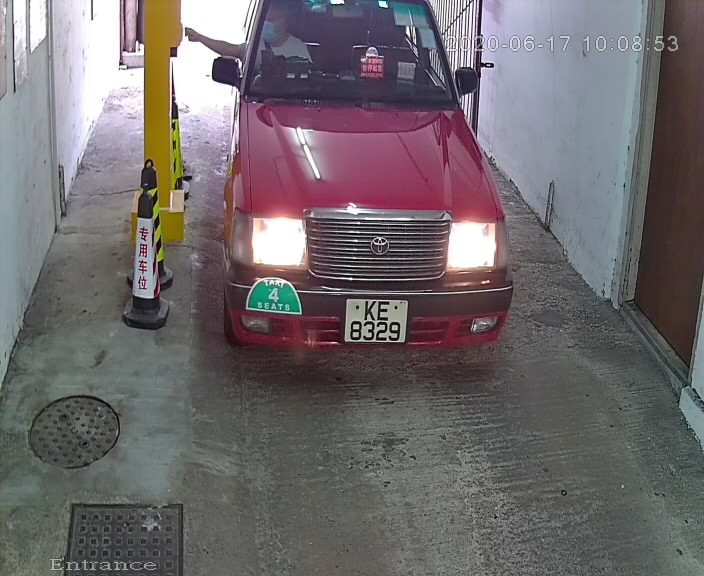taxi: (202, 2, 521, 393)
taxi_mark: (236, 270, 313, 328)
